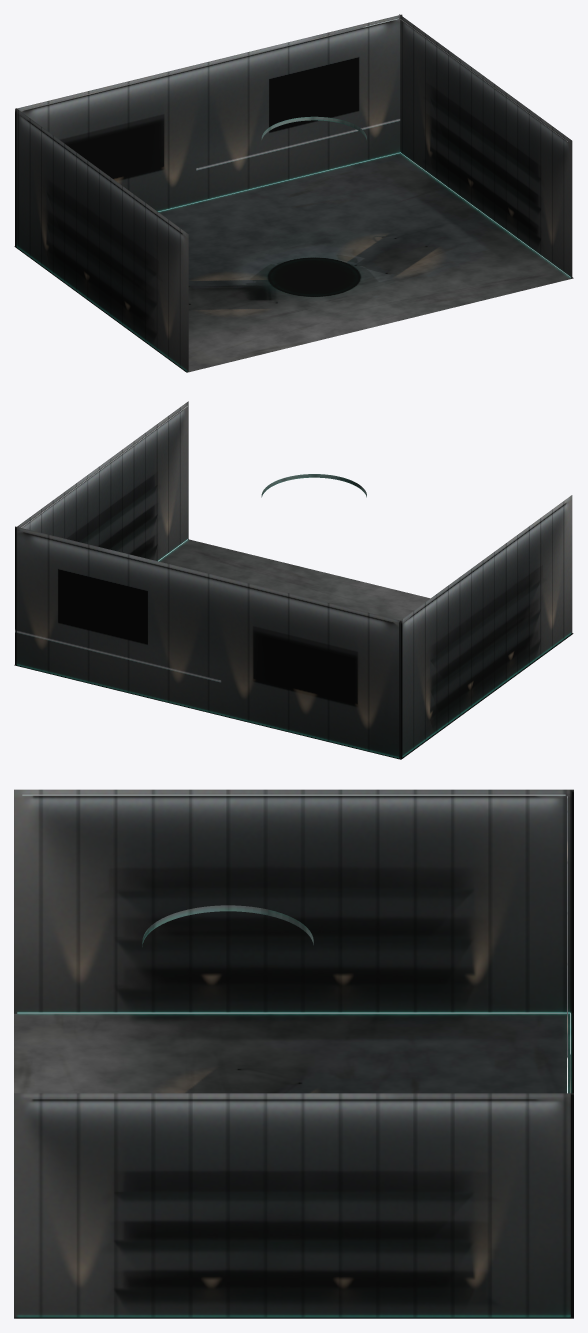
Rendered from room.glb.
3 renders of one model, top to bottom at view 1: azimuth 30°, elevation 25°; view 2: azimuth 150°, elevation 25°; view 3: azimuth 270°, elevation 25°, orthographic. The views are drawn at different scales.
Visible parts, largest first — view 1: baked_room; view 2: baked_room; view 3: baked_room.
Part boxes in pixels (x1,y1,x2,y2): baked_room: (14,14,573,372); baked_room: (14,401,573,759); baked_room: (14,789,573,1318).
Size of the model in its own units: 44 by 15 by 34.
1 material, 1 textured.
